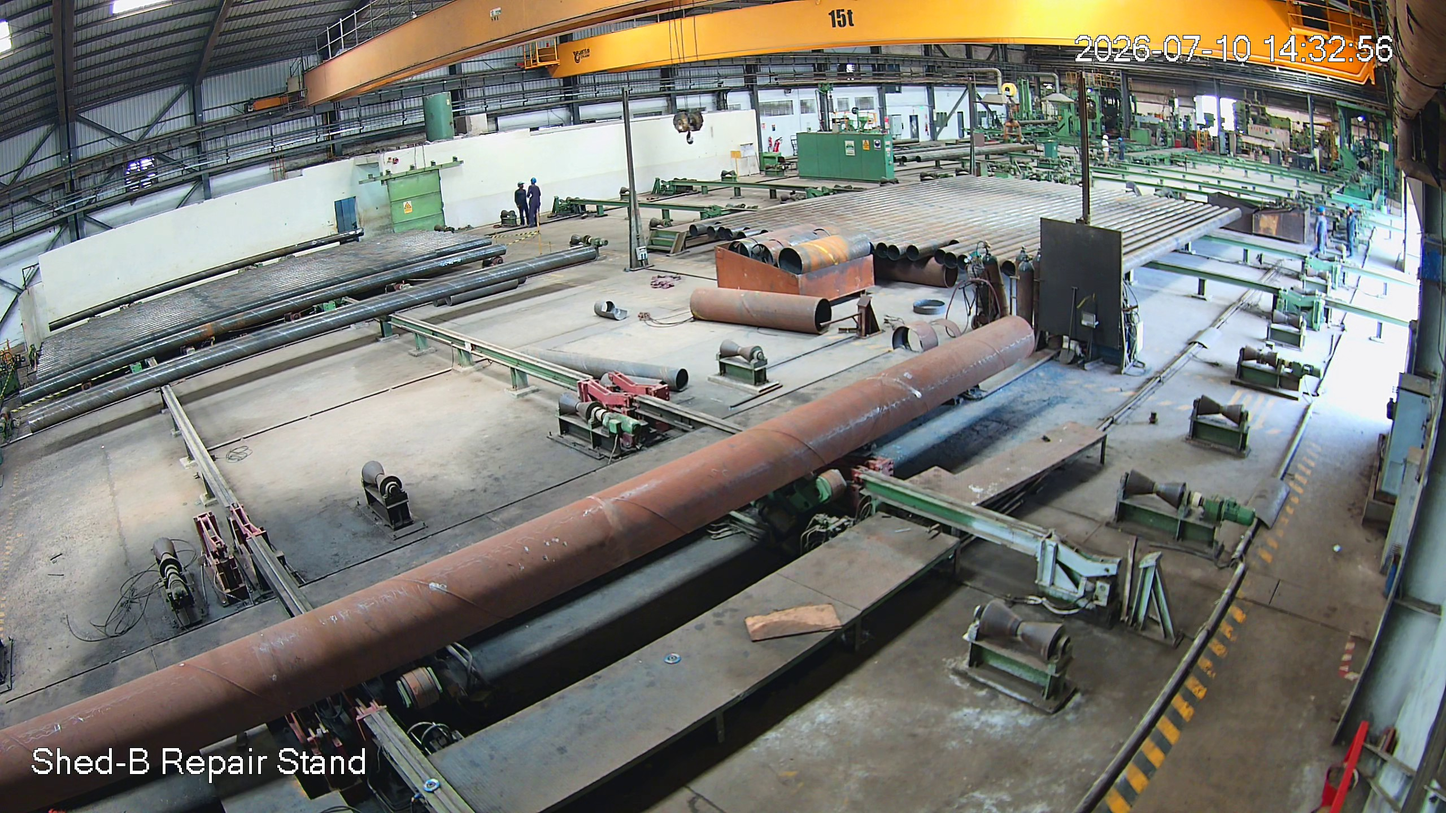Helmet: (529, 174, 539, 188), (516, 179, 527, 190)
Person: (512, 180, 530, 228), (528, 176, 543, 228)
